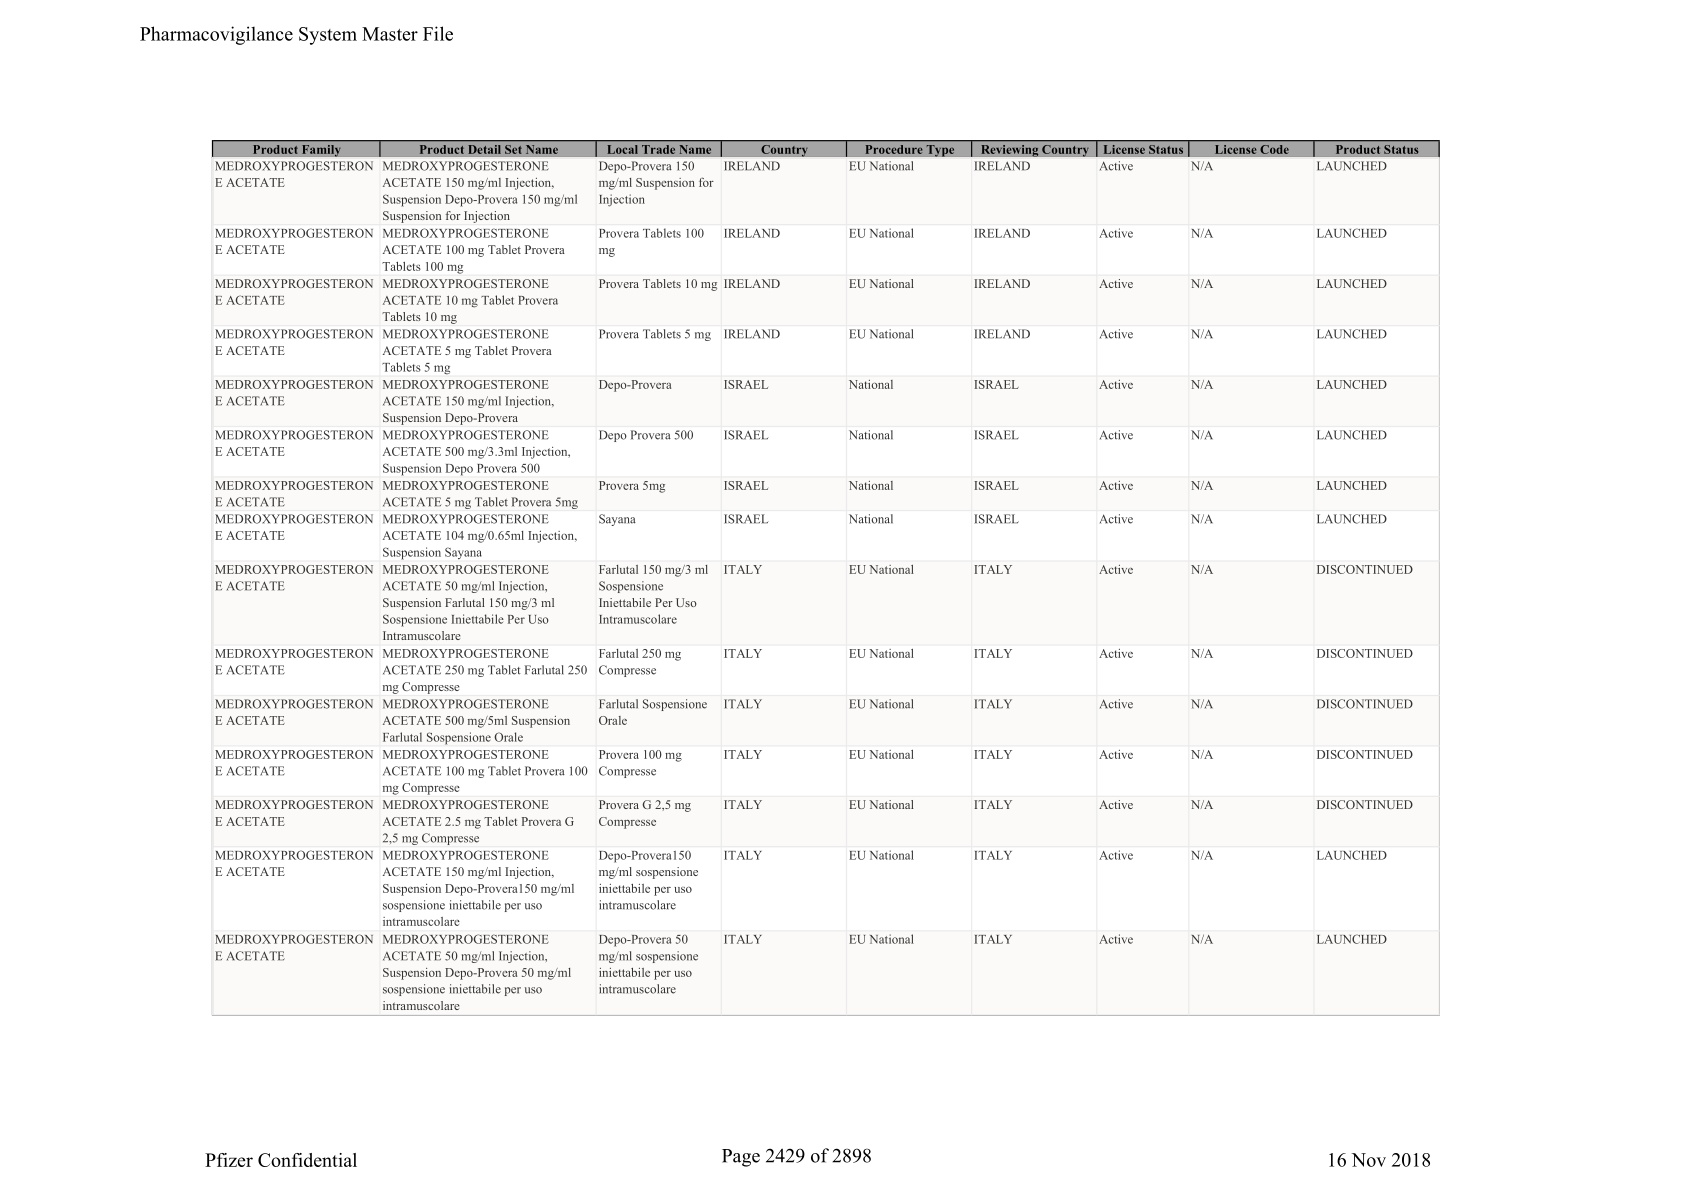full_lined: (210, 138, 1441, 1017)
